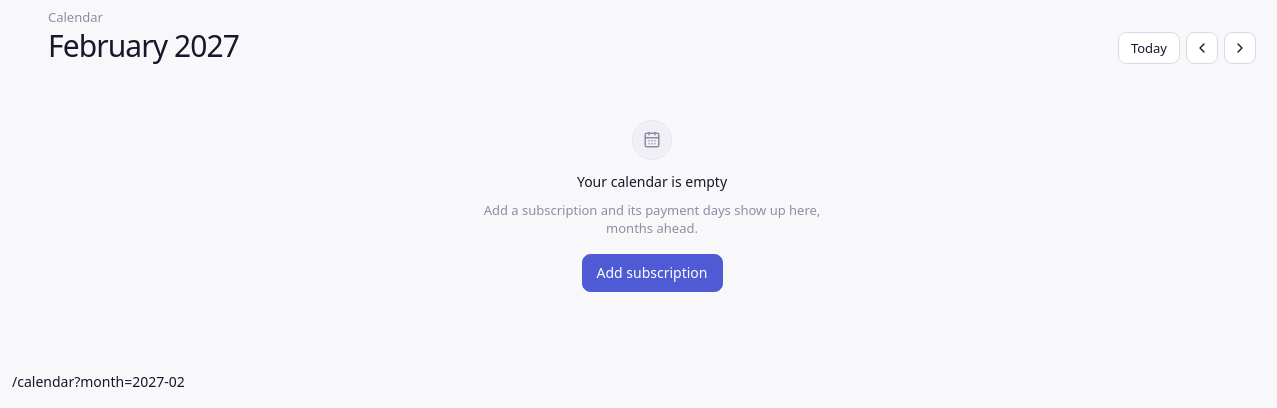
Test: Calendar › month query param navigates
The width and height of the screenshot is (1277, 408).
Expected: the heading "February 2027" is shown, [48, 27, 239, 64]
Step 1. Click the button named "next month" → (1240, 48), box [1224, 32, 1256, 64]
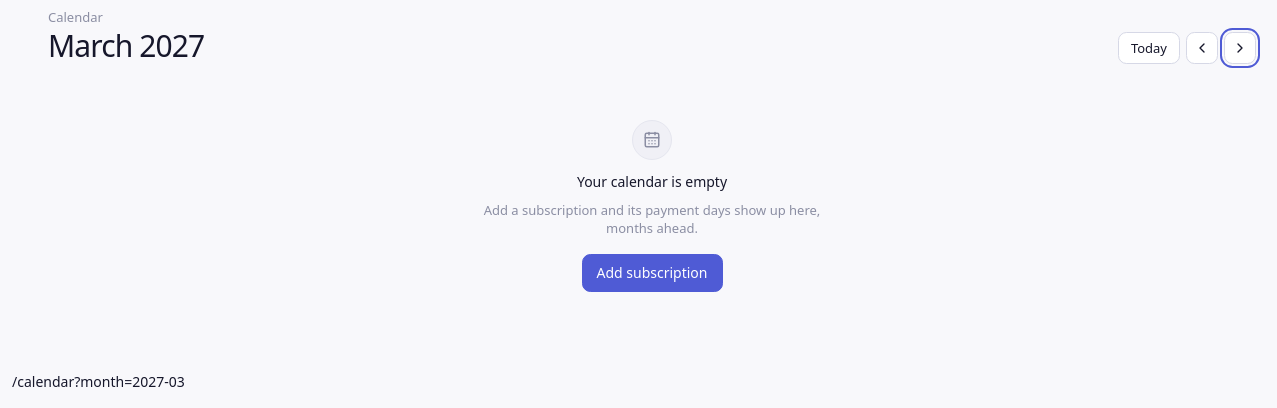
Now the heading "March 2027" is shown, box [48, 27, 204, 64]
Now the text with test id "where" reads "/calendar?month=2027-03", box [12, 372, 185, 391]
Step 2. Click the button named "previous month" → (1202, 48), box [1186, 32, 1218, 64]
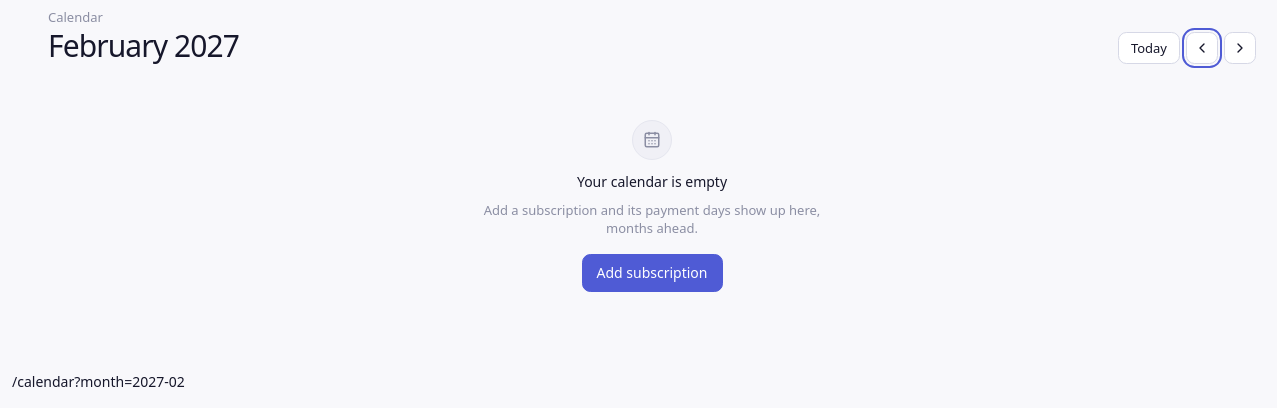
Step 3. Click the button named "previous month" → (1202, 48), box [1186, 32, 1218, 64]
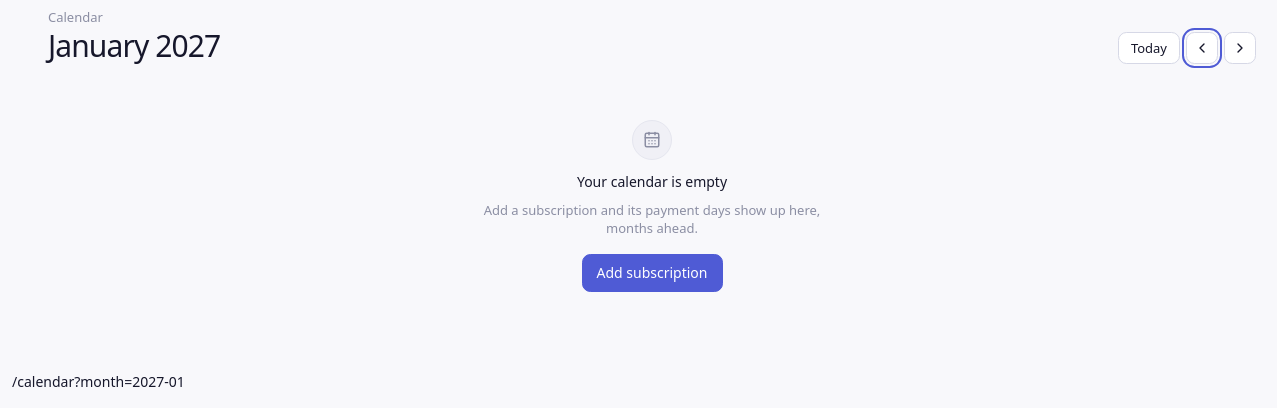
Now the heading "January 2027" is shown, box [48, 27, 220, 64]
